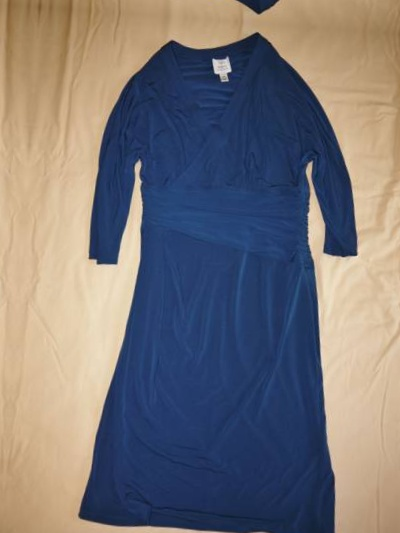Dress: (51, 19, 398, 533), (91, 0, 400, 25)
